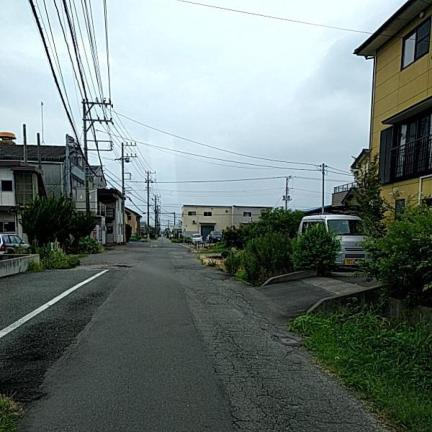Road: (0, 240, 381, 431)
